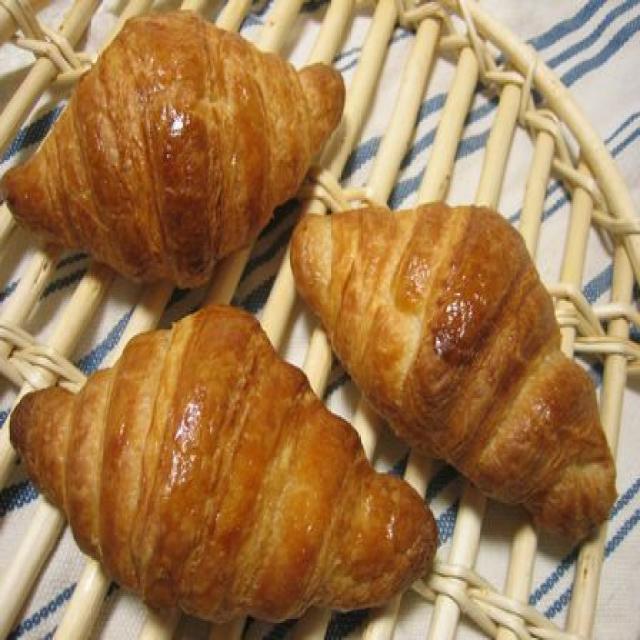Croissant: (11, 7, 337, 279)
